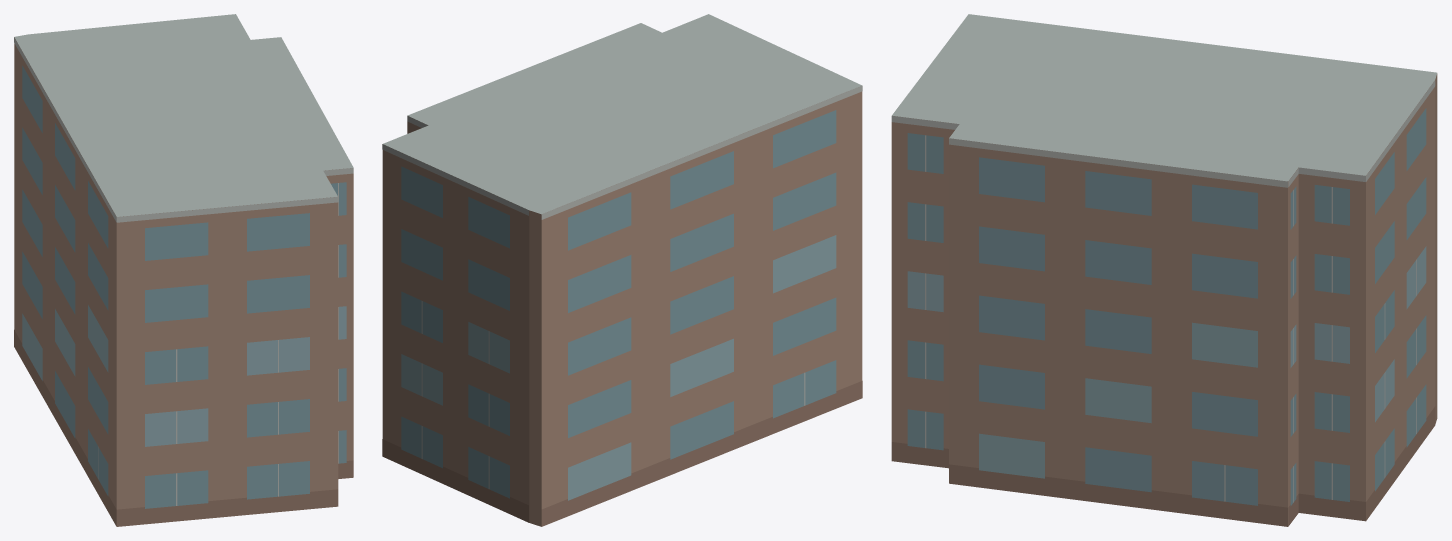
The model's file is survey-upis-32878357.glb.
3 renders of one model, left to right at view 1: azimuth 30°, elevation 25°; view 2: azimuth 150°, elevation 25°; view 3: azimuth 270°, elevation 25°, orthographic. The views are drawn at different scales.
Visible parts, largest first — view 1: survey-upis-32878357.tmp; view 2: survey-upis-32878357.tmp; view 3: survey-upis-32878357.tmp.
Boxes of the visible parts, bbox=[...] form: survey-upis-32878357.tmp: bbox=[14, 14, 353, 526]; survey-upis-32878357.tmp: bbox=[382, 14, 862, 526]; survey-upis-32878357.tmp: bbox=[891, 14, 1437, 526].
Size of the model in its own units: 13.73 by 13.2 by 18.91.
